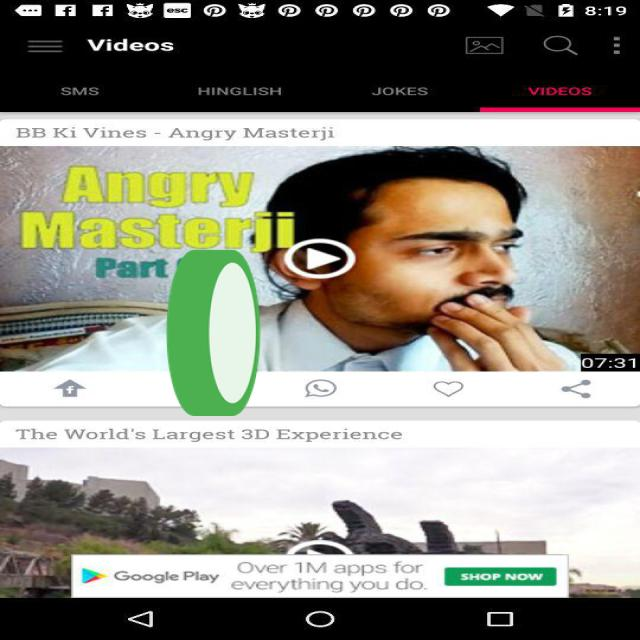social proof: (162, 186, 264, 493)
